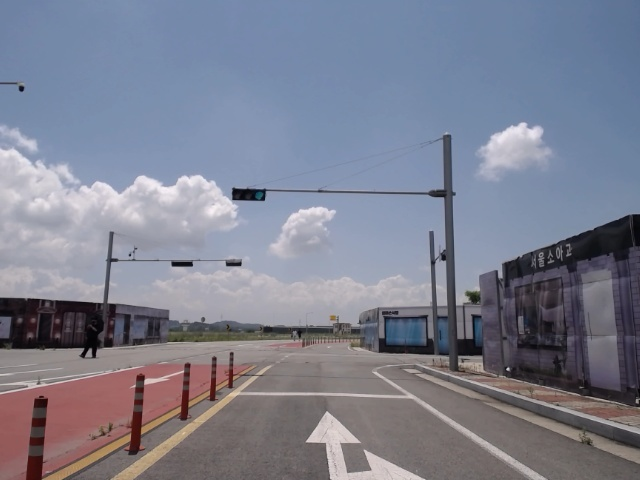green_3: (232, 189, 265, 201)
